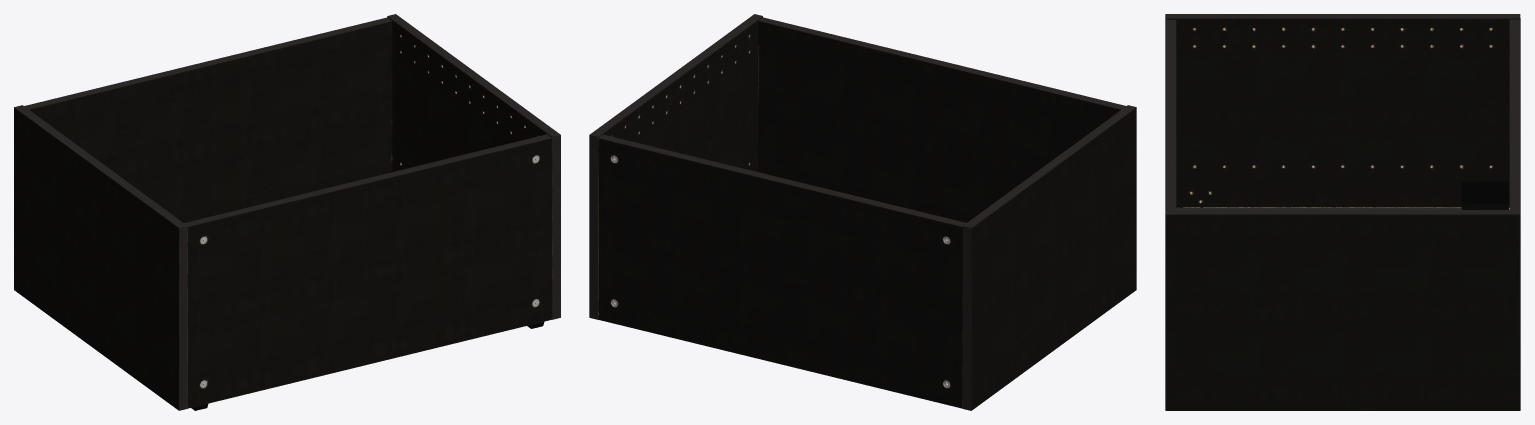
The model's file is metod_safka_scienna_90591729.glb.
3 views of the same model, side by side, from view 1: azimuth 30°, elevation 25°; view 2: azimuth 150°, elevation 25°; view 3: azimuth 270°, elevation 25° (orthographic). The views are drawn at different scales.
Visible parts, largest first — view 1: metod_safka_scienna_90591729; view 2: metod_safka_scienna_90591729; view 3: metod_safka_scienna_90591729.
Part boxes in pixels (x1,y1,x2,y2): metod_safka_scienna_90591729: (14, 14, 560, 410); metod_safka_scienna_90591729: (589, 14, 1136, 410); metod_safka_scienna_90591729: (1165, 14, 1520, 410).
Bounding box in the file's own units: 0.8 × 0.3761 × 0.5993.
Materials: 1 (1 with a texture image).
